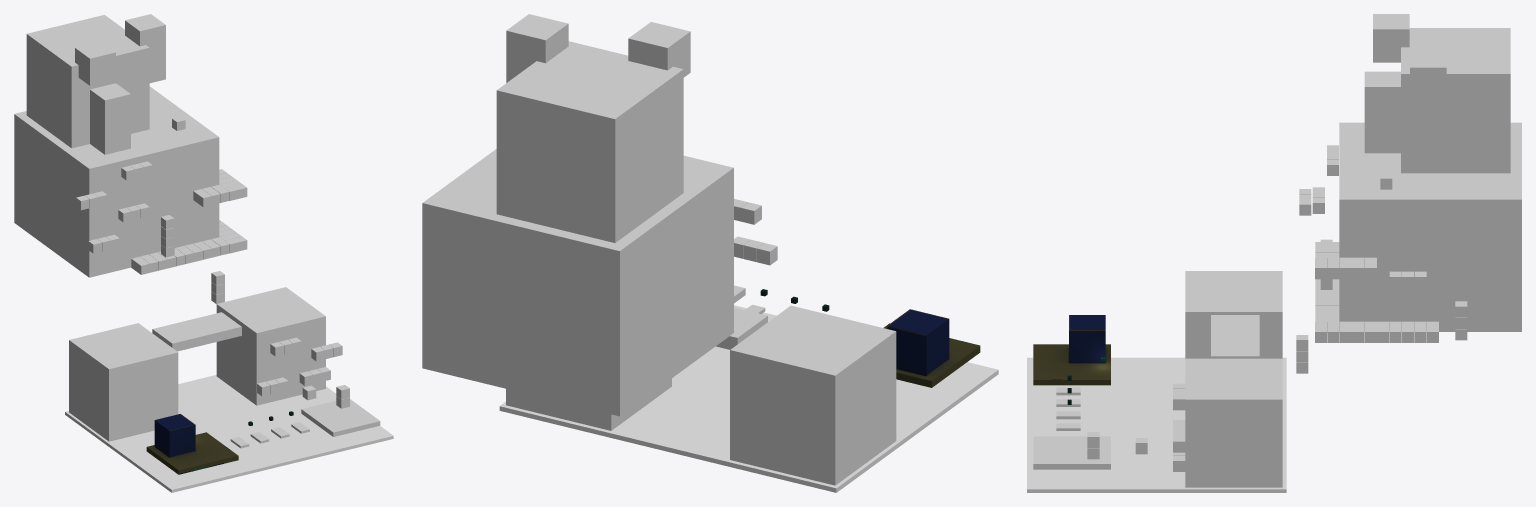
The model's file is fulltestingsceneTexture3.glb.
3 renders of one model, left to right at view 1: azimuth 30°, elevation 25°; view 2: azimuth 150°, elevation 25°; view 3: azimuth 270°, elevation 25°, orthographic. The views are drawn at different scales.
Visible parts, largest first — view 1: Cube, ground, cube8.001, home.003, cube8, home.002, bridge, homeground, Cube.002, home.004, home, home.001; view 2: Cube, home.003, cube8.001, ground, home, home.004, home.001, cube8, homeground, bridge; view 3: Cube, ground, home.003, cube8, cube8.001, home.002, home.004, homeground, Cube.002, bridge, home, home.001.
Part boxes in pixels (x1,y1,x2,y2): Cube: (14, 86, 219, 277); ground: (65, 375, 393, 492); cube8.001: (69, 323, 178, 441); home.003: (26, 15, 149, 148); cube8: (216, 287, 325, 405); home.002: (90, 83, 130, 154); bridge: (152, 312, 241, 351); homeground: (146, 432, 238, 474); Cube.002: (301, 399, 380, 436); home.004: (125, 14, 165, 83); home: (154, 414, 195, 457); home.001: (75, 41, 115, 85); Cube: (422, 149, 733, 416); home.003: (496, 41, 683, 242); cube8.001: (730, 305, 896, 485); ground: (499, 305, 998, 492); home: (887, 309, 949, 376); home.004: (506, 14, 568, 82); home.001: (628, 22, 690, 77); cube8: (506, 378, 671, 430); homeground: (883, 323, 980, 387); bridge: (716, 307, 767, 349); Cube: (1339, 122, 1521, 331); ground: (1027, 357, 1286, 492); home.003: (1401, 28, 1510, 173); cube8: (1185, 358, 1282, 487); cube8.001: (1185, 271, 1282, 358); home.002: (1364, 71, 1400, 153); home.004: (1410, 52, 1446, 133); homeground: (1033, 344, 1110, 385); Cube.002: (1033, 436, 1110, 469); bridge: (1211, 315, 1259, 358); home: (1069, 315, 1105, 363); home.001: (1373, 14, 1409, 62).
Size of the model in its own units: 160 by 209 by 244.
Materials: 2 (1 with a texture image).
